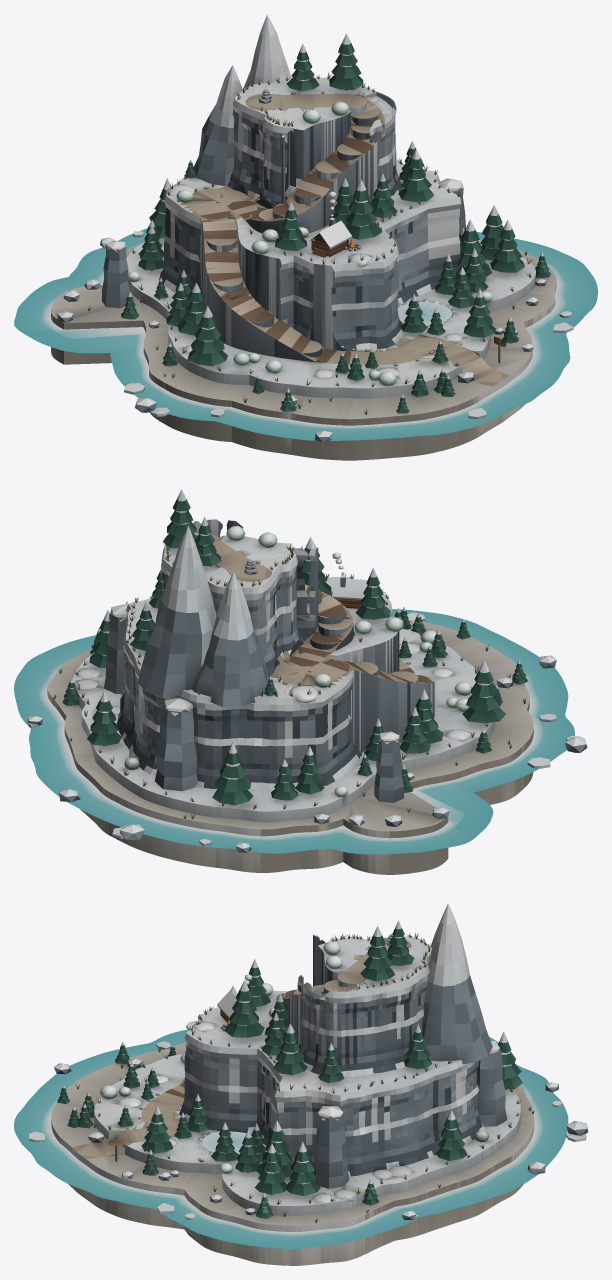
Rendered from TundraIsland.glb.
3 renders of one model, top to bottom at view 1: azimuth 30°, elevation 25°; view 2: azimuth 150°, elevation 25°; view 3: azimuth 270°, elevation 25°, orthographic. The views are drawn at different scales.
Visible parts, largest first — view 1: Lit, Unlit, Soft; view 2: Lit, Unlit, Soft; view 3: Lit, Unlit, Soft.
Part boxes in pixels (x1=…): Lit: x1=51, y1=14, x2=573, y2=460; Unlit: x1=14, y1=228, x2=597, y2=440; Soft: x1=128, y1=101, x2=492, y2=385; Lit: x1=27, y1=489, x2=587, y2=874; Unlit: x1=14, y1=609, x2=574, y2=854; Soft: x1=74, y1=526, x2=471, y2=796; Lit: x1=29, y1=903, x2=588, y2=1265; Unlit: x1=14, y1=1019, x2=568, y2=1248; Soft: x1=100, y1=941, x2=489, y2=1205.
Bounding box in the file's own units: 6.13 × 3.3 × 6.47.
